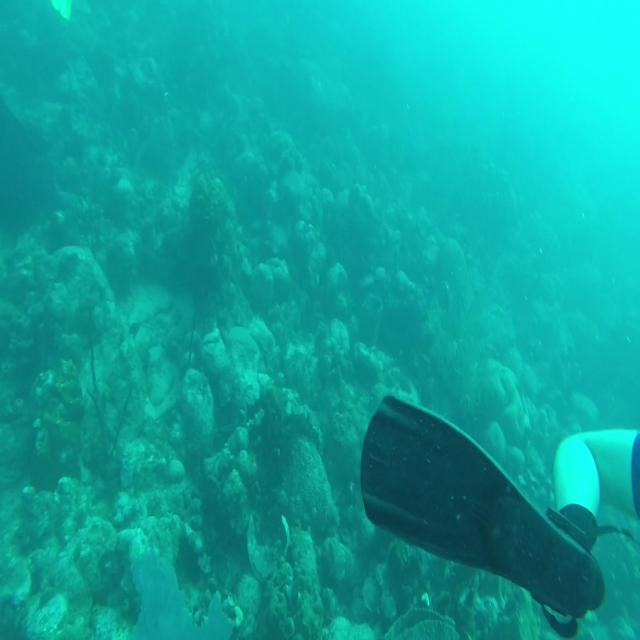human: (363, 375, 640, 640)
